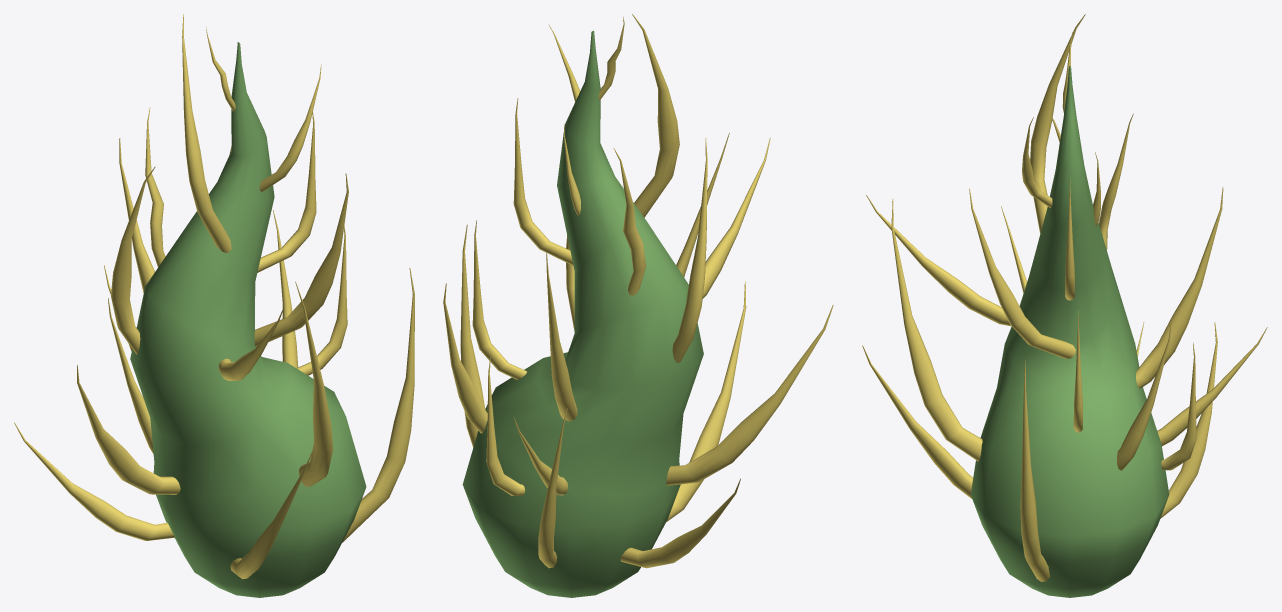
The model's file is Cactus_2.fbx.
3 renders of one model, left to right at view 1: azimuth 30°, elevation 25°; view 2: azimuth 150°, elevation 25°; view 3: azimuth 270°, elevation 25°, orthographic. The views are drawn at different scales.
Parts seen in each view (by area): view 1: polySurface13; view 2: polySurface13; view 3: polySurface13.
Part boxes in pixels (left/top/right/bottom): polySurface13: left=14, top=14, right=414, bottom=597; polySurface13: left=443, top=14, right=833, bottom=597; polySurface13: left=862, top=14, right=1267, bottom=597.
Bounding box in the file's own units: 0.1159 × 0.1847 × 0.1247.
